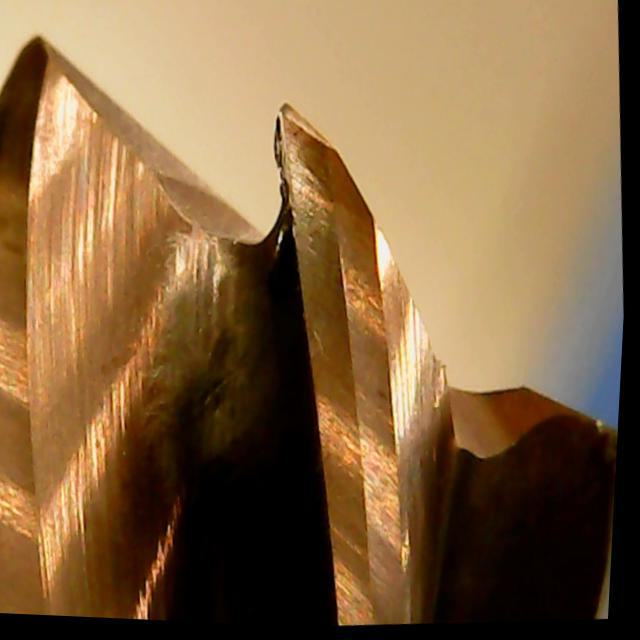Tool-wear-class-1: (241, 89, 400, 321)
